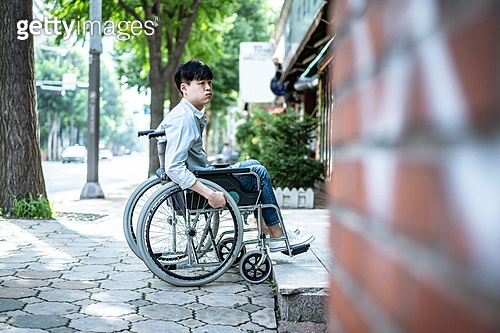wheelchair: (123, 59, 314, 287)
